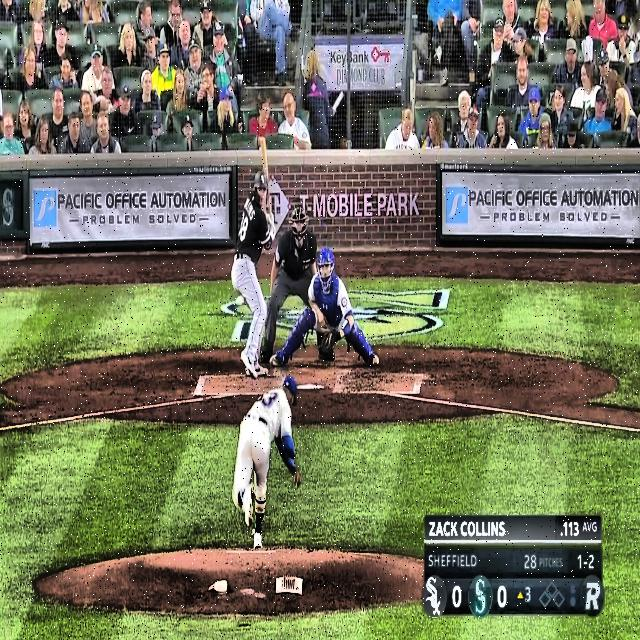baseball: (235, 295, 243, 307)
